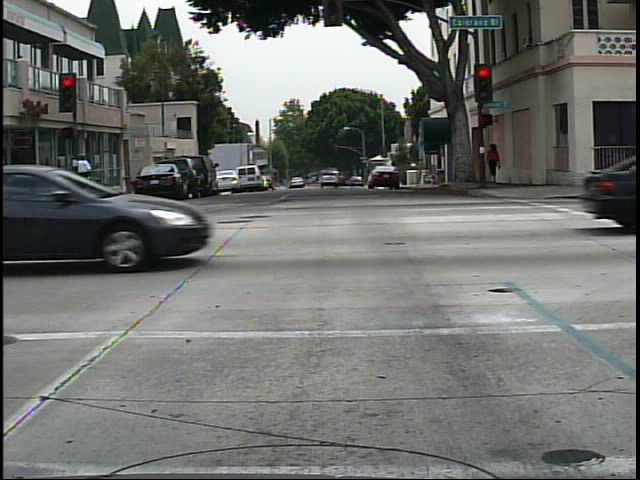person: (70, 147, 99, 209), (486, 138, 507, 191)
